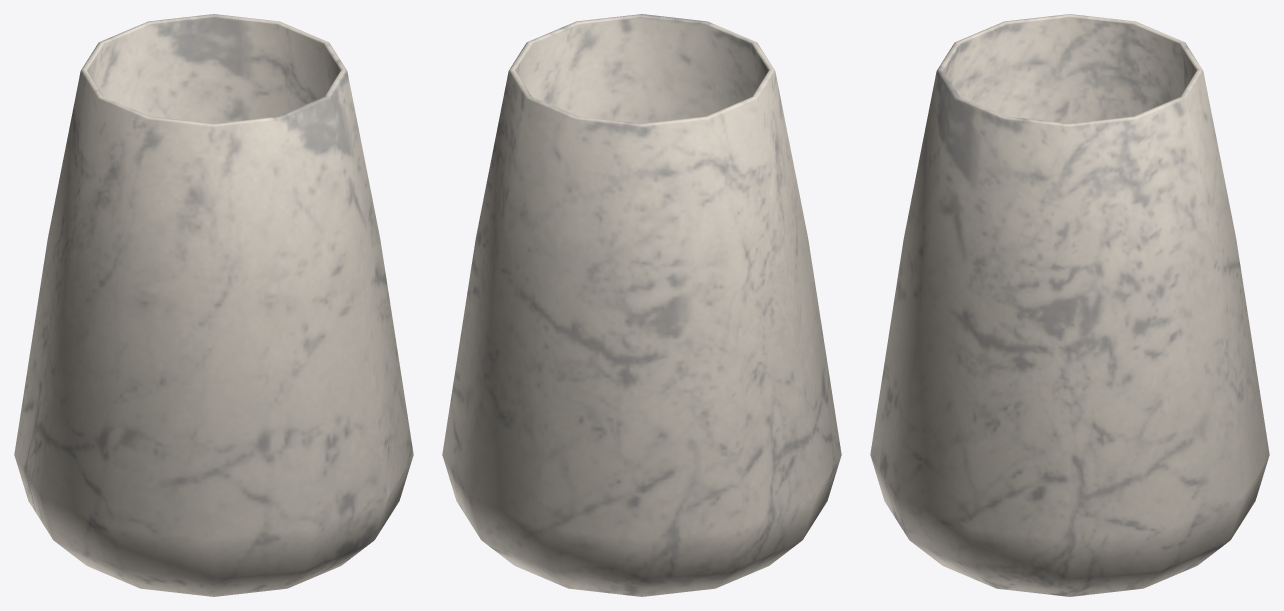
File: shelf_prop_decorative_vase.fbx
The picture shows the model from 3 angles, left to right: view 1: azimuth 30°, elevation 25°; view 2: azimuth 150°, elevation 25°; view 3: azimuth 270°, elevation 25°; orthographic projection.
Parts seen in each view (by area): view 1: Cube.028; view 2: Cube.028; view 3: Cube.028.
Part boxes in pixels (box(x1,y1,x2,y2)): Cube.028: box(14, 14, 413, 596); Cube.028: box(442, 14, 841, 596); Cube.028: box(870, 14, 1269, 596).
Size of the model in its own units: 13.78 by 18.44 by 13.78.
